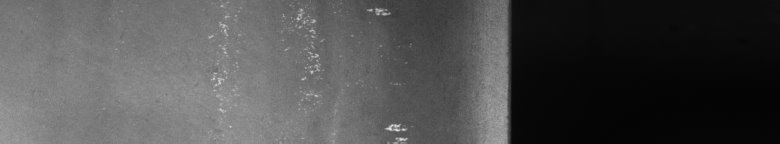hc: (208, 4, 414, 136)
